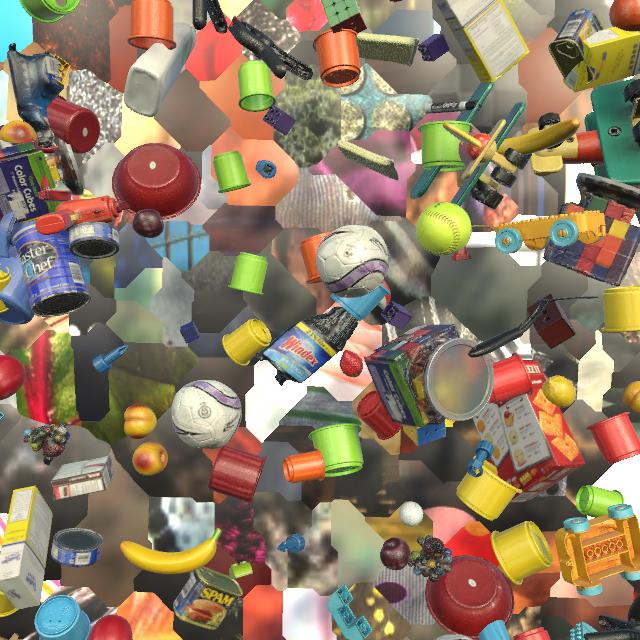ycb_002_master_chef_can: (13, 224, 91, 317)
ycb_003_cracker_box: (473, 360, 586, 503)
ycb_004_sugar_box: (434, 0, 530, 85), (0, 486, 53, 609), (563, 27, 640, 93)
ycb_007_tuna_fish_can: (51, 528, 104, 567), (68, 222, 120, 259)
ycb_008_pudding_box: (51, 455, 114, 501)
ycb_010_potted_meat_can: (173, 566, 243, 630), (548, 8, 604, 84)
ycb_011_banana: (120, 528, 222, 574), (497, 118, 580, 155)
ycb_012_strawberry: (339, 350, 363, 377), (389, 0, 402, 2)
ycb_013_apple: (0, 355, 26, 400), (88, 615, 133, 640)
ycb_014_lemon: (542, 375, 576, 408)
ycb_015_peach: (133, 442, 168, 476), (124, 404, 157, 439), (0, 121, 38, 148), (622, 381, 640, 414)
ycb_017_orange: (609, 0, 640, 31)
ycb_018_plum: (380, 537, 411, 570), (132, 209, 164, 238)
